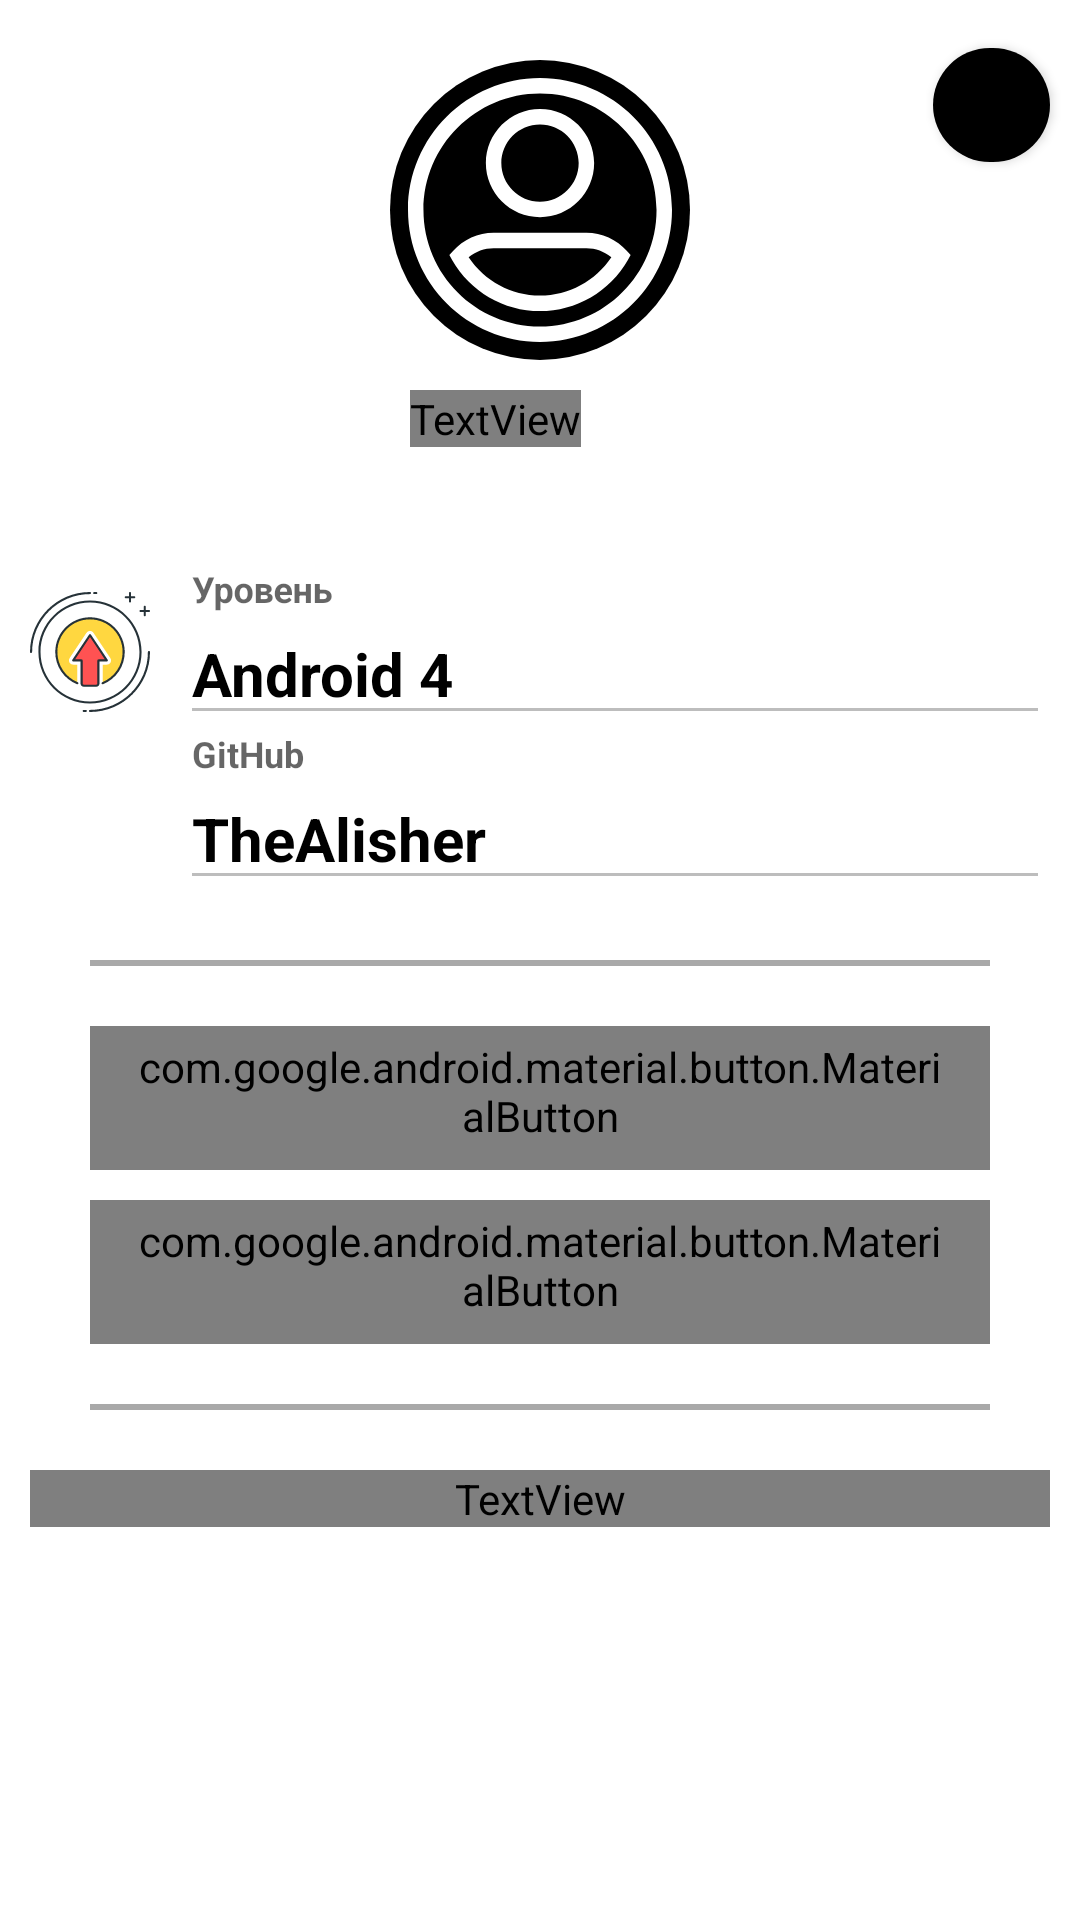

Icons on this 1080 x 1920 Android screen, each with the point to tap as (x=x, y=y):
Image user photo: (x=540, y=210)
